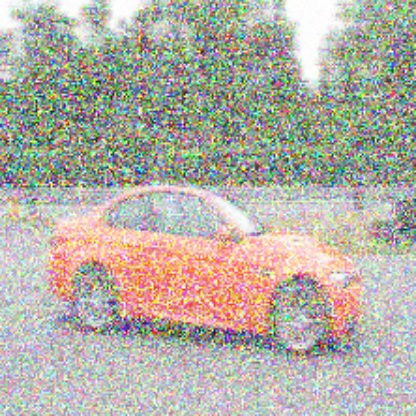Vehicle: (47, 184, 364, 357)
